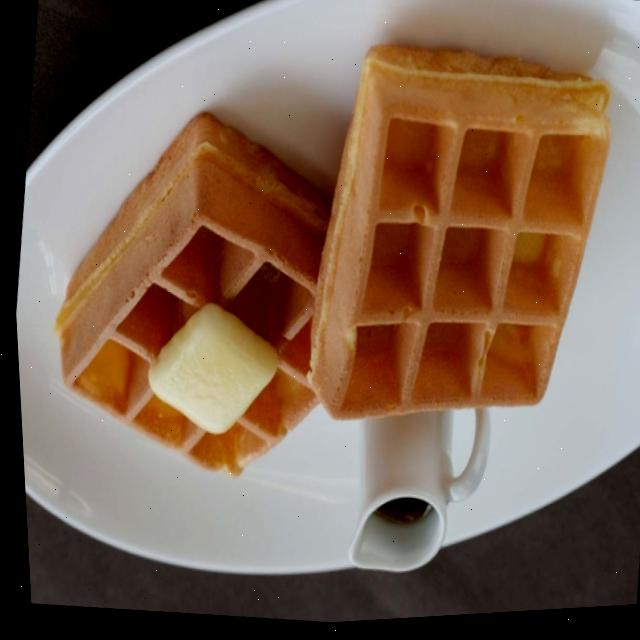带馅早点: (34, 0, 640, 638)
